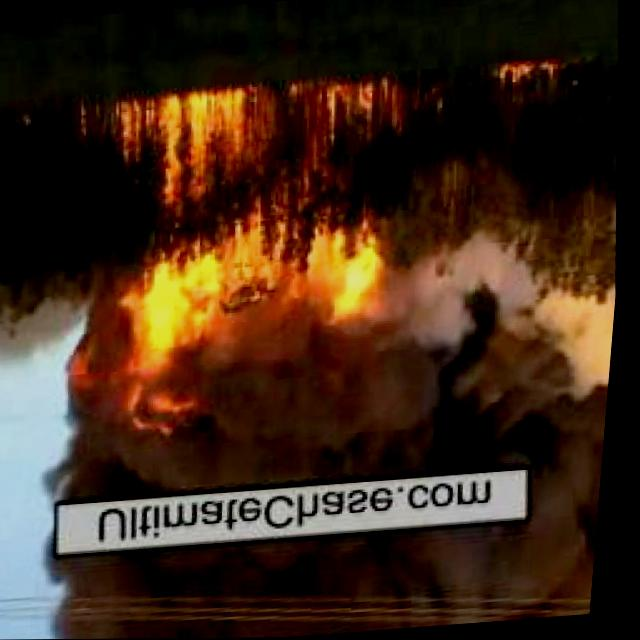helmet: (69, 75, 419, 444), (490, 61, 579, 92)
no_helmet: (41, 276, 622, 501), (55, 520, 606, 639)
